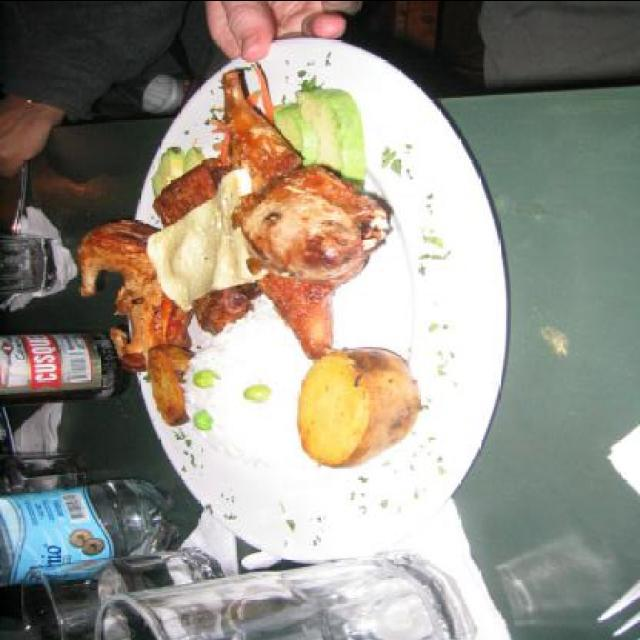Potato: (294, 348, 416, 470)
